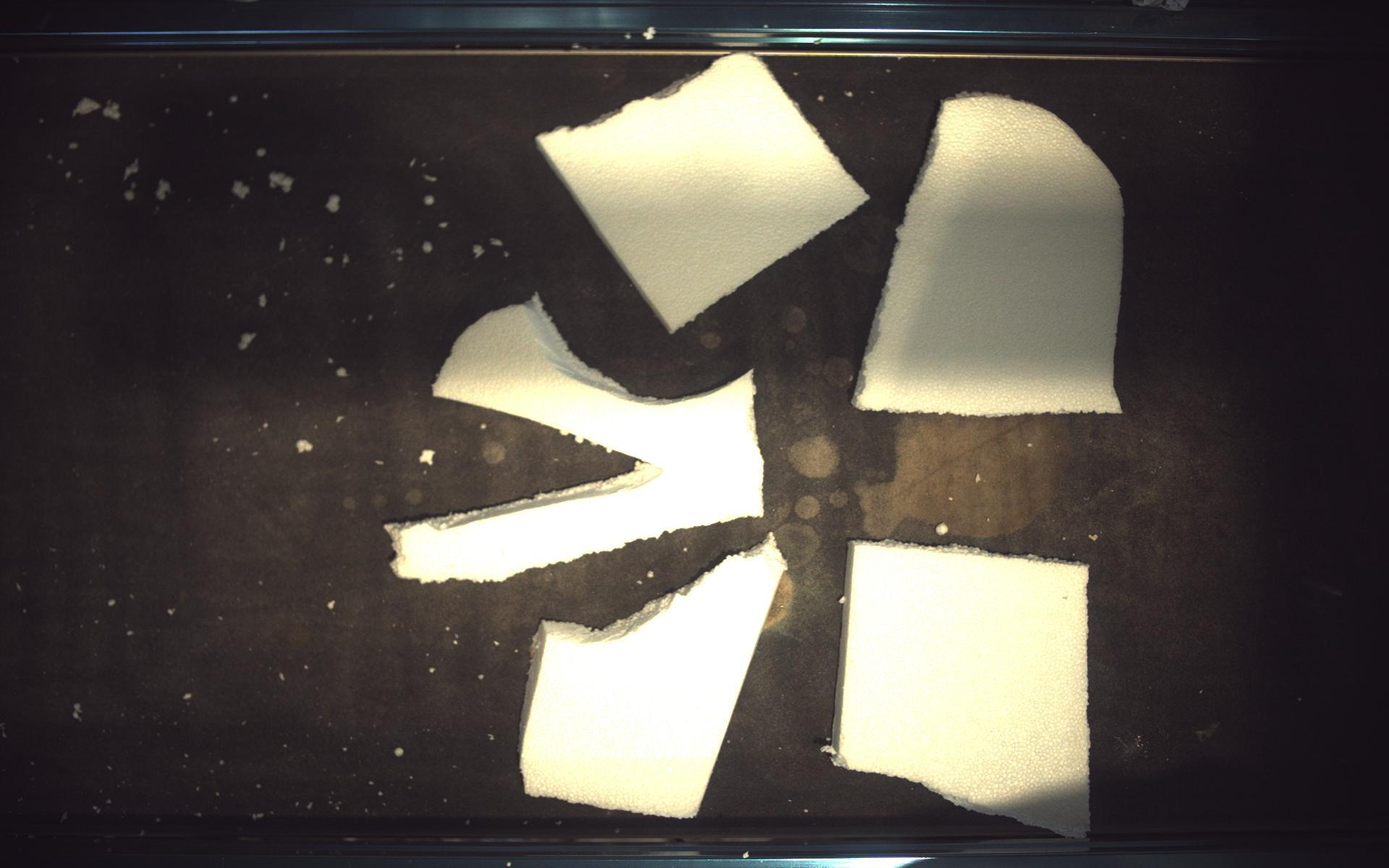foam: (388, 295, 765, 582), (538, 52, 870, 331), (856, 93, 1126, 416), (836, 542, 1092, 839), (521, 537, 786, 819)
